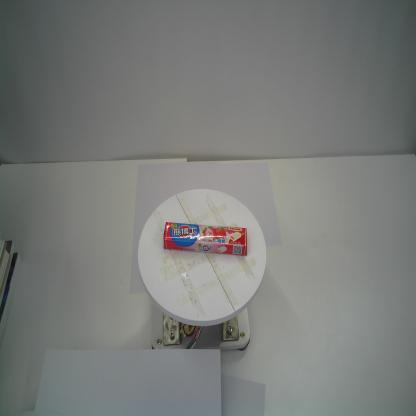Candy: (162, 220, 247, 258)
